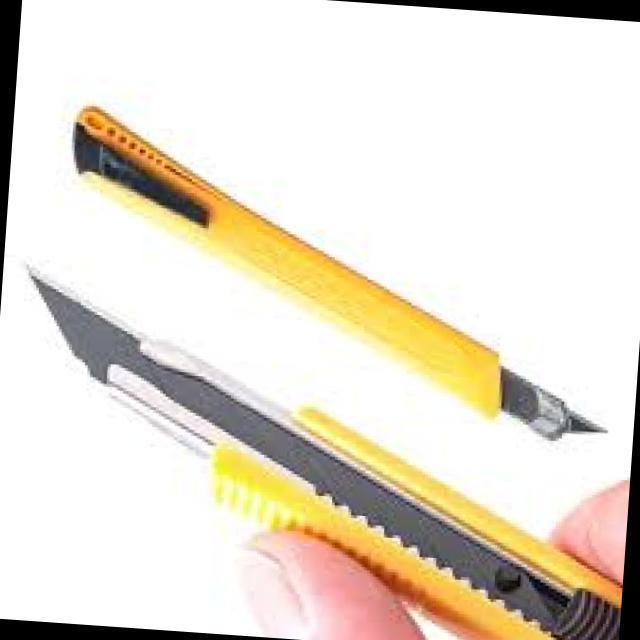cutter: (0, 239, 640, 640), (41, 92, 640, 468)
